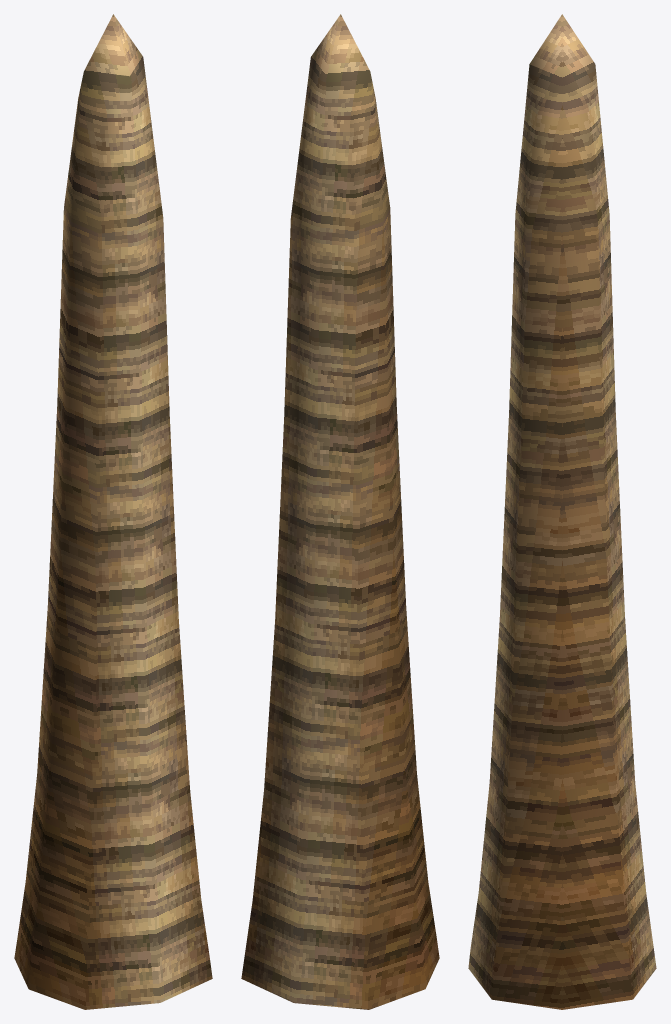
File: tREEa.fbx
3 views of the same model, side by side, from view 1: azimuth 30°, elevation 25°; view 2: azimuth 150°, elevation 25°; view 3: azimuth 270°, elevation 25° (orthographic).
Parts seen in each view (by area): view 1: mesh-9.001; view 2: mesh-9.001; view 3: mesh-9.001.
Boxes of the visible parts, box(x1,y1,x2,y2) form: mesh-9.001: box(14, 14, 212, 1009); mesh-9.001: box(241, 14, 439, 1009); mesh-9.001: box(468, 14, 656, 1009).
Size of the model in its own units: 191 by 1025 by 183.
